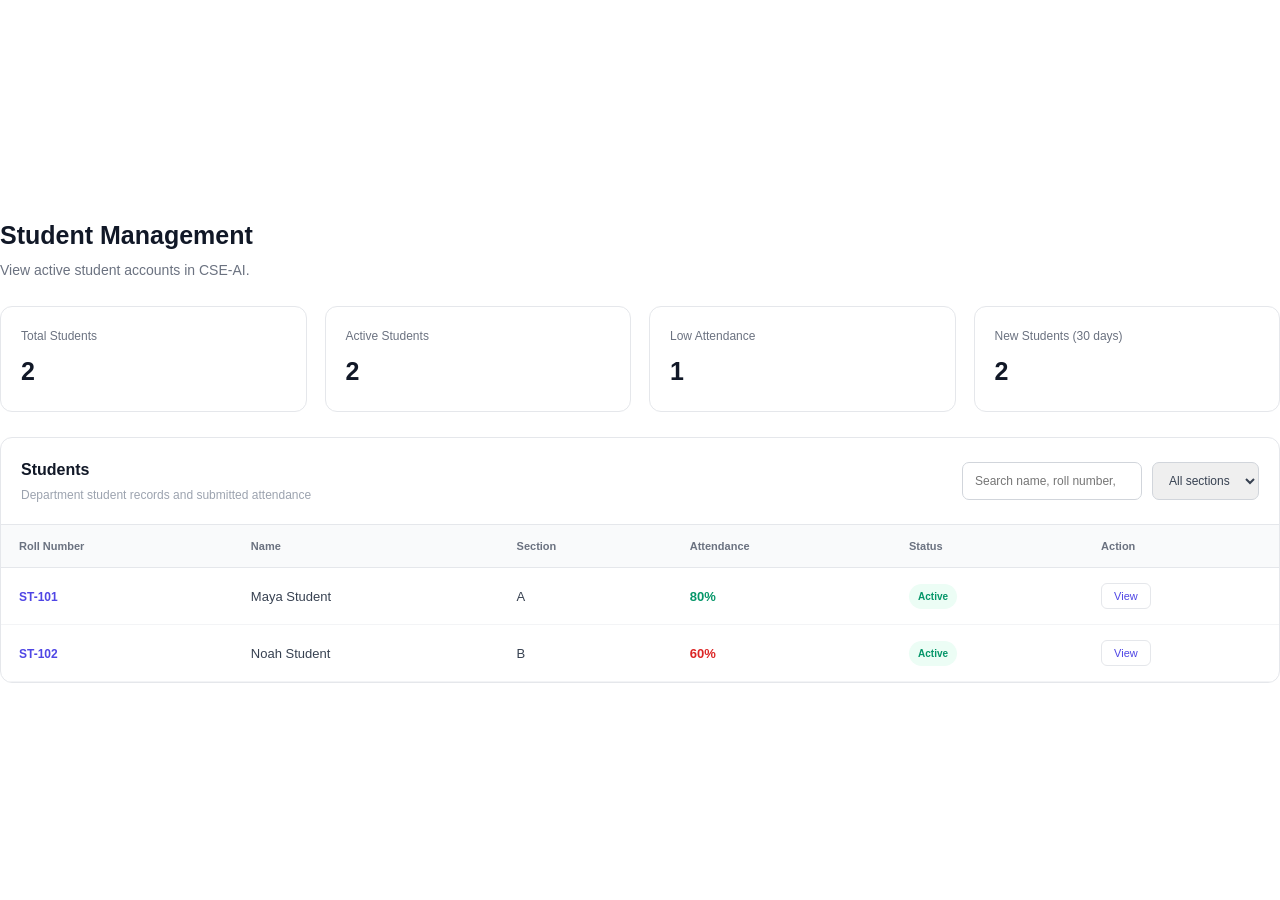
HOD student management › shows real department students and opens an individual detail view
The image size is (1280, 900).
Check: the text "Maya Student" is shown, box [233, 568, 499, 625]
Check: the text "Noah Student" is shown, box [233, 625, 499, 682]
Click the button "View" in the row of "ST-101". click: (1126, 596)
box: [1101, 583, 1151, 609]
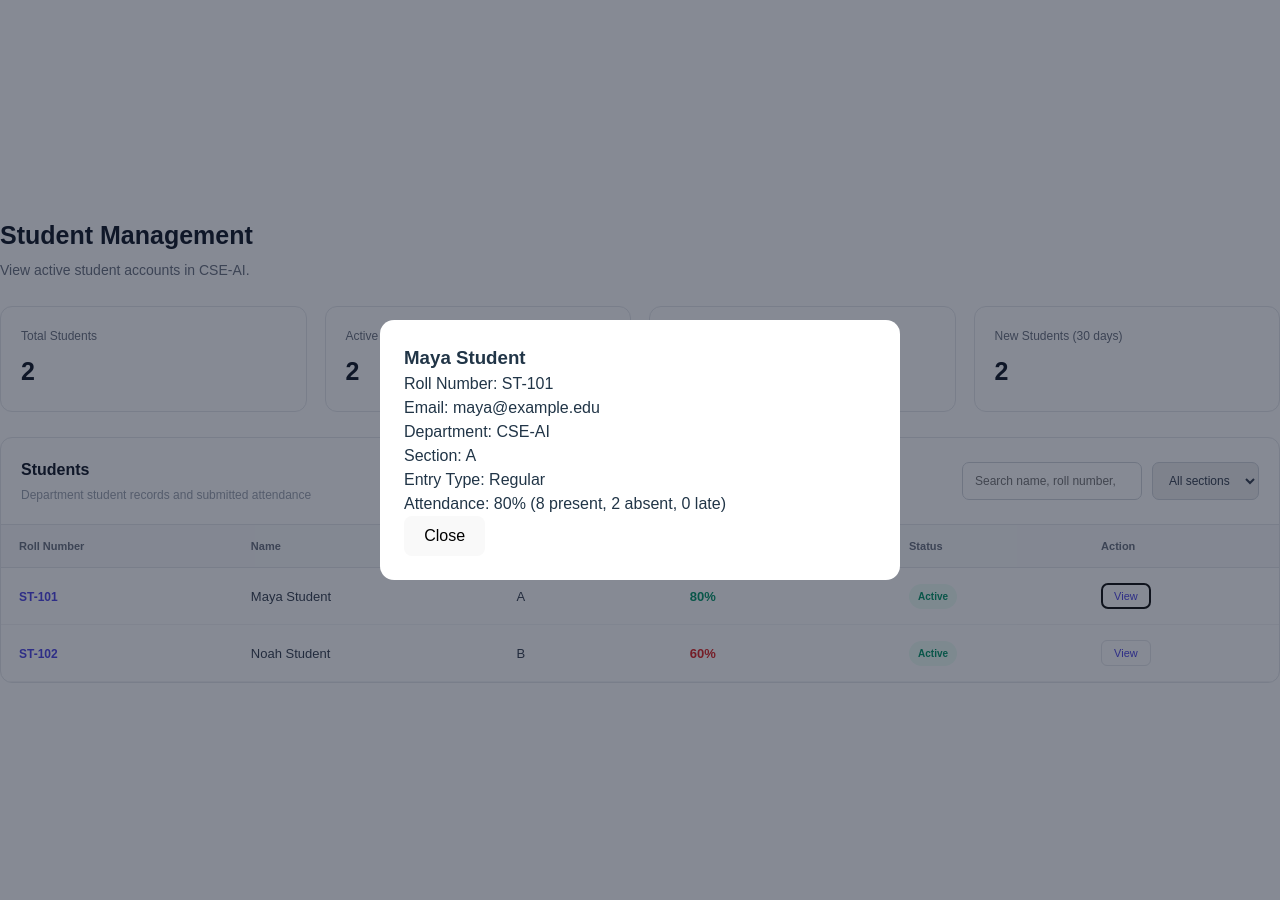
Check: the dialog shows "maya@example.edu", box [453, 399, 600, 416]
Check: the dialog shows "8 present, 2 absent, 0 late", box [494, 495, 726, 512]
Click the button "Close". click: (445, 536)
box: [404, 516, 485, 556]
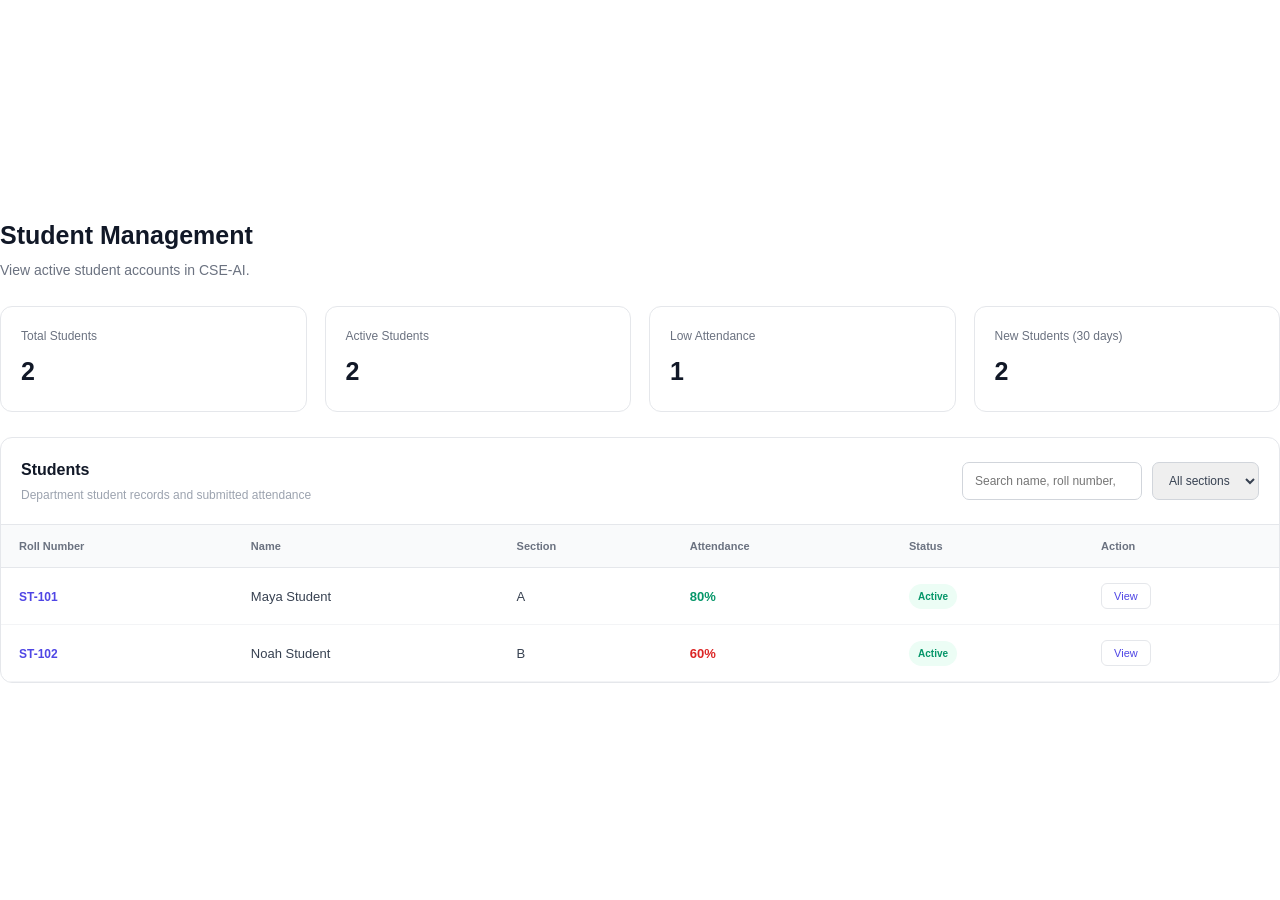
Check: the dialog is gone
